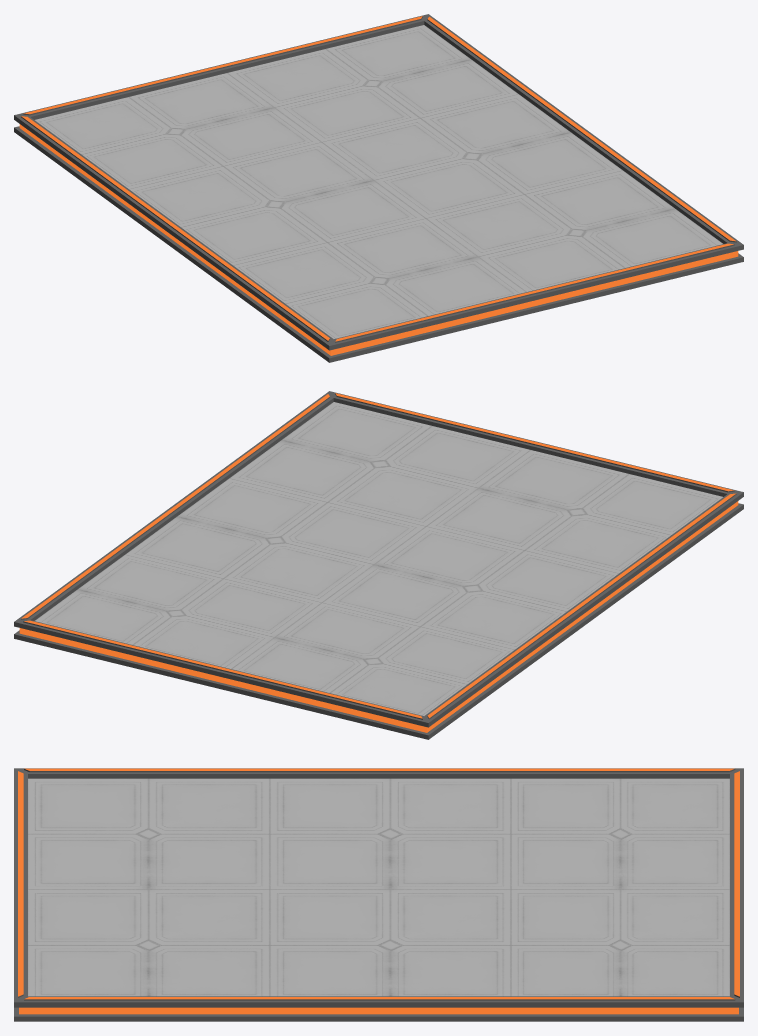
File: Bodenplatte_01.glb
3 views of the same model, one above another, from view 1: azimuth 30°, elevation 25°; view 2: azimuth 150°, elevation 25°; view 3: azimuth 270°, elevation 25° (orthographic). The views are drawn at different scales.
Parts seen in each view (by area): view 1: Bodenplatte_01; view 2: Bodenplatte_01; view 3: Bodenplatte_01.
Boxes of the visible parts, bbox=[...] form: Bodenplatte_01: bbox=[14, 14, 743, 362]; Bodenplatte_01: bbox=[14, 391, 743, 739]; Bodenplatte_01: bbox=[14, 768, 743, 1021].
Size of the model in its own units: 5.05 by 0.2097 by 6.66.
Materials: 3 (1 with a texture image).
